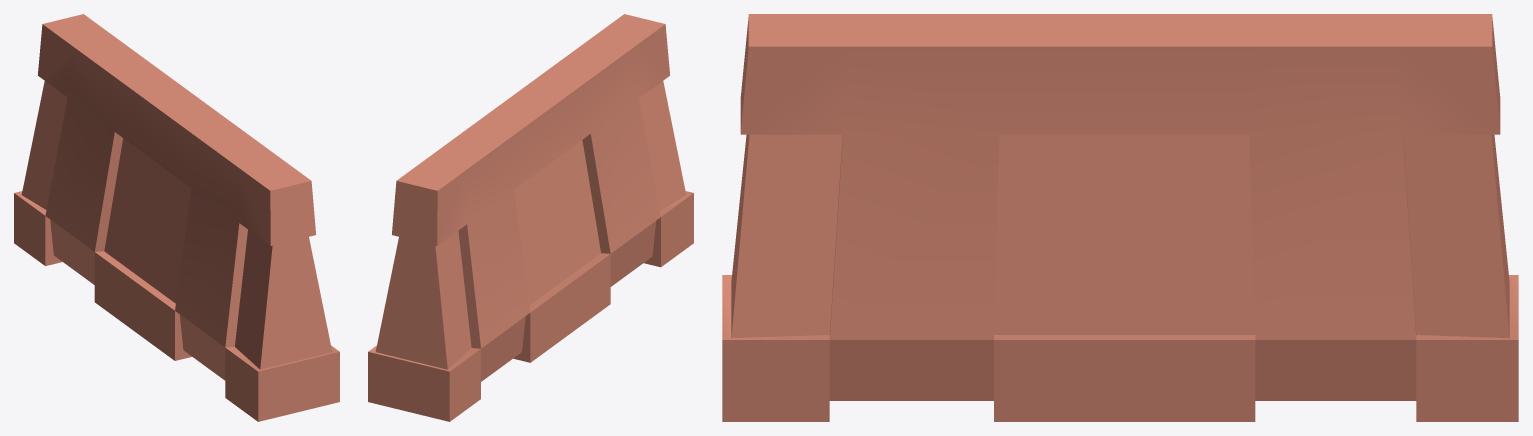
Rendered from Barrier.fbx.
The picture shows the model from 3 angles, left to right: view 1: azimuth 30°, elevation 25°; view 2: azimuth 150°, elevation 25°; view 3: azimuth 270°, elevation 25°; orthographic projection. The views are drawn at different scales.
Visible parts, largest first — view 1: pCube1; view 2: pCube1; view 3: pCube1.
Boxes of the visible parts, x1,y1,x2,y2 form: pCube1: (14, 14, 339, 421); pCube1: (368, 14, 693, 421); pCube1: (722, 14, 1518, 421).
Size of the model in its own units: 2.38 by 6.13 by 12.32.
